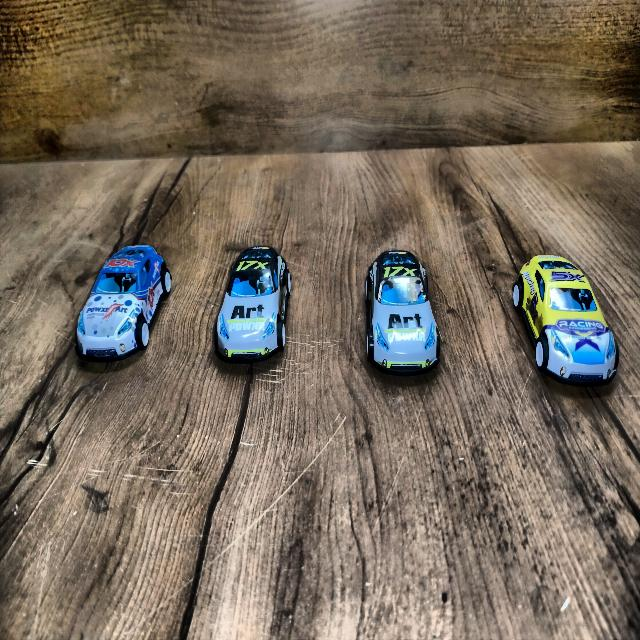Car: (512, 255, 618, 386), (76, 246, 171, 361), (366, 251, 440, 375), (214, 247, 291, 363)
